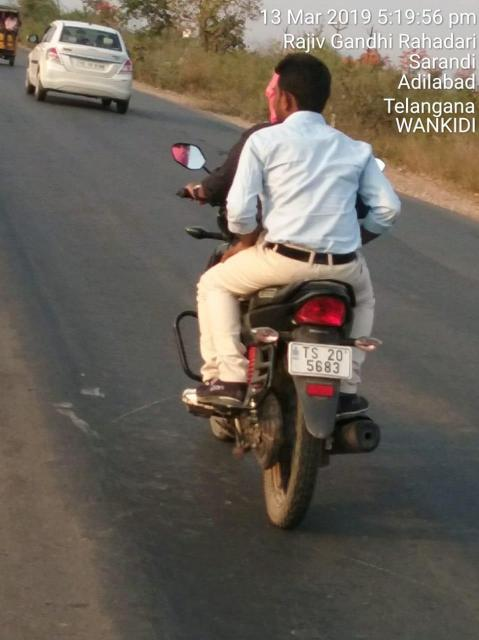motor: (170, 140, 387, 535)
non-helm: (267, 50, 335, 122)
